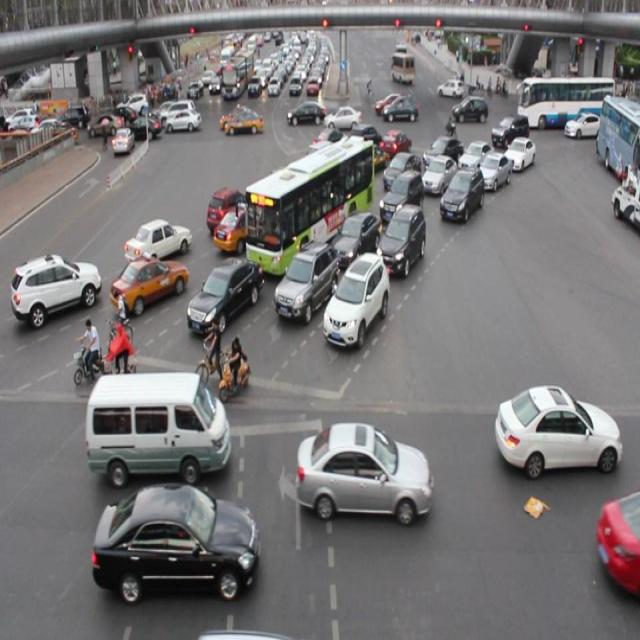car: (93, 482, 258, 596), (297, 421, 430, 516), (494, 384, 620, 474), (323, 252, 389, 345), (12, 255, 100, 322), (187, 260, 264, 333), (594, 487, 640, 596), (275, 241, 336, 318), (111, 256, 186, 312), (376, 202, 425, 274), (124, 219, 191, 265), (331, 210, 382, 268), (212, 204, 268, 248), (439, 167, 482, 221), (378, 170, 422, 221), (207, 186, 254, 232), (261, 167, 304, 206), (314, 165, 359, 202), (423, 135, 462, 177), (276, 186, 319, 224), (383, 151, 420, 194), (420, 154, 455, 196), (490, 115, 527, 152), (475, 151, 510, 190), (349, 140, 388, 173), (458, 142, 493, 177), (349, 123, 382, 158), (310, 127, 346, 159), (378, 128, 410, 160), (503, 135, 534, 168)
truck: (87, 371, 230, 478), (304, 141, 342, 181)
van: (244, 142, 373, 272)
